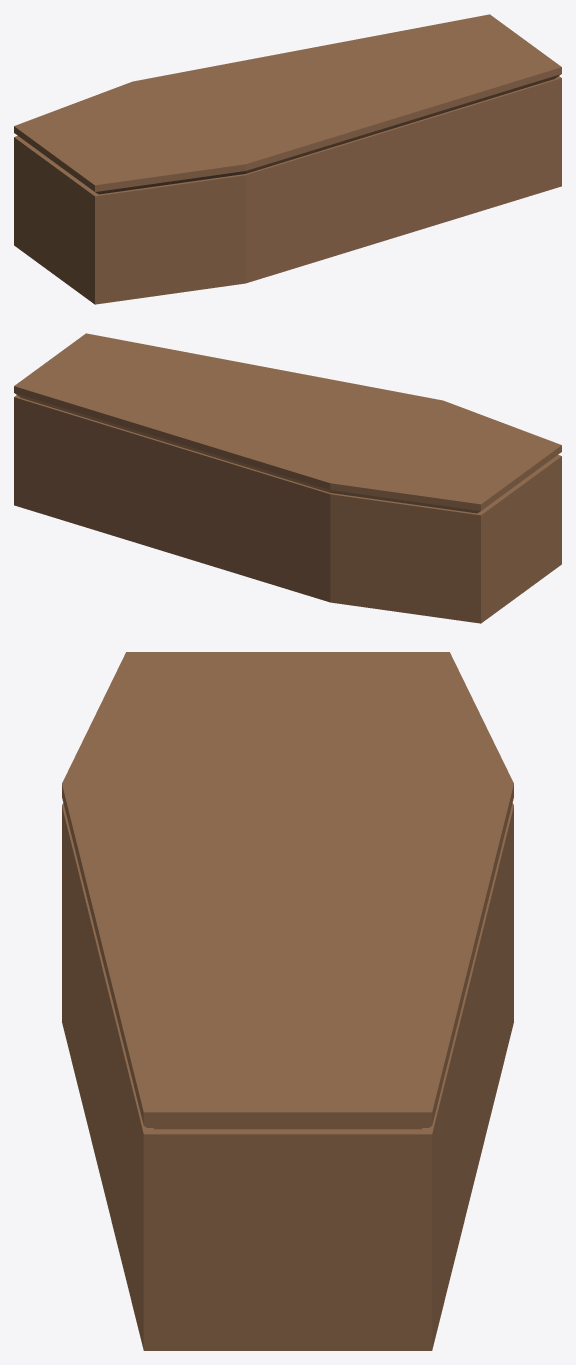
The model's file is coffin1.fbx.
3 renders of one model, top to bottom at view 1: azimuth 30°, elevation 25°; view 2: azimuth 150°, elevation 25°; view 3: azimuth 270°, elevation 25°, orthographic. The views are drawn at different scales.
Parts seen in each view (by area): view 1: Куб, Куб.001; view 2: Куб, Куб.001; view 3: Куб.001, Куб.
Boxes of the visible parts, x1,y1,x2,y2 form: Куб: (14, 76, 561, 304); Куб.001: (14, 14, 561, 194); Куб: (14, 395, 561, 623); Куб.001: (14, 333, 561, 513); Куб.001: (62, 652, 513, 1129); Куб: (62, 803, 513, 1350).
Bounding box in the file's own units: 528 × 128 × 219.
